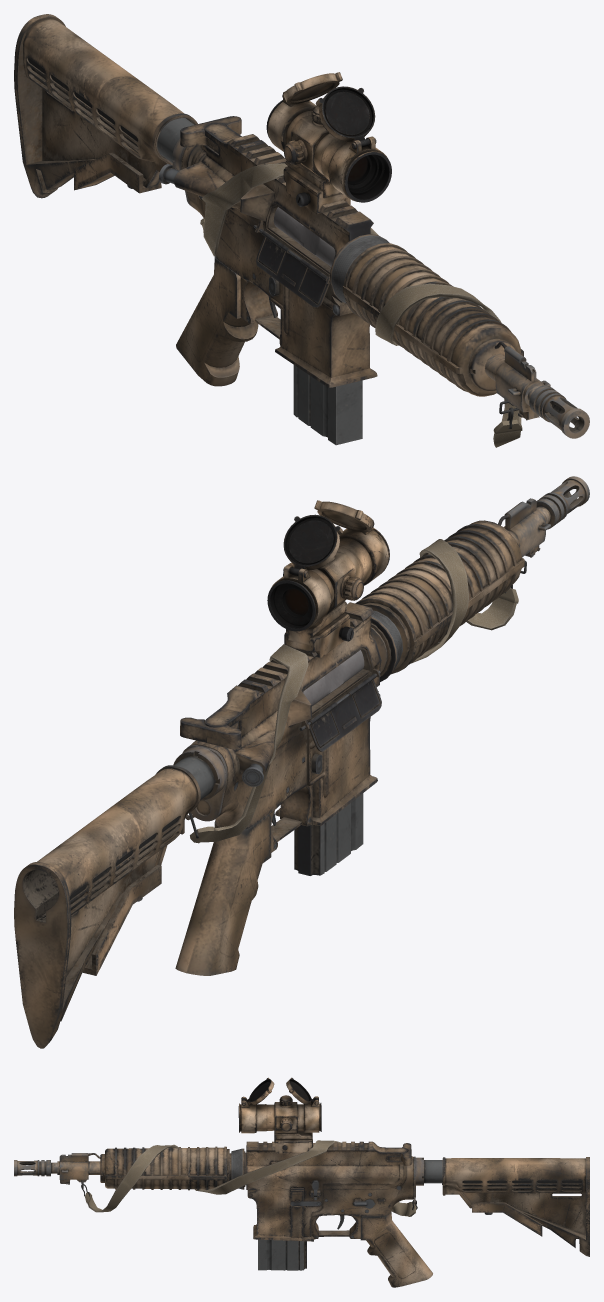
The picture shows the model from 3 angles, top to bottom: view 1: azimuth 30°, elevation 25°; view 2: azimuth 150°, elevation 25°; view 3: azimuth 270°, elevation 25°; orthographic projection. The views are drawn at different scales.
Visible parts, largest first — view 1: Receiver, Stock, Scope, Sling, Magazine, BoltCarrier, ChargingHandle; view 2: Receiver, Stock, Scope, Sling, Magazine, ChargingHandle, BoltCarrier; view 3: Receiver, Stock, Scope, Sling, Magazine.
Part boxes in pixels (x1,y1,x2,y2): Receiver: [157, 118, 589, 438]; Stock: [14, 14, 197, 198]; Scope: [266, 72, 391, 214]; Sling: [200, 163, 522, 447]; Magazine: [293, 365, 362, 445]; BoltCarrier: [273, 207, 335, 266]; ChargingHandle: [180, 116, 241, 153]; Receiver: [173, 476, 589, 975]; Stock: [14, 765, 200, 1048]; Scope: [267, 500, 389, 658]; Sling: [189, 539, 526, 843]; Magazine: [294, 793, 363, 875]; ChargingHandle: [180, 717, 241, 749]; BoltCarrier: [303, 650, 364, 706]; Receiver: [14, 1141, 442, 1287]; Stock: [442, 1157, 589, 1256]; Scope: [238, 1077, 321, 1153]; Sling: [81, 1140, 417, 1216]; Magazine: [258, 1239, 306, 1270].
Bounding box in the file's own units: 0.0652 × 0.2612 × 0.6679.
Materials: 3 (3 with a texture image).
